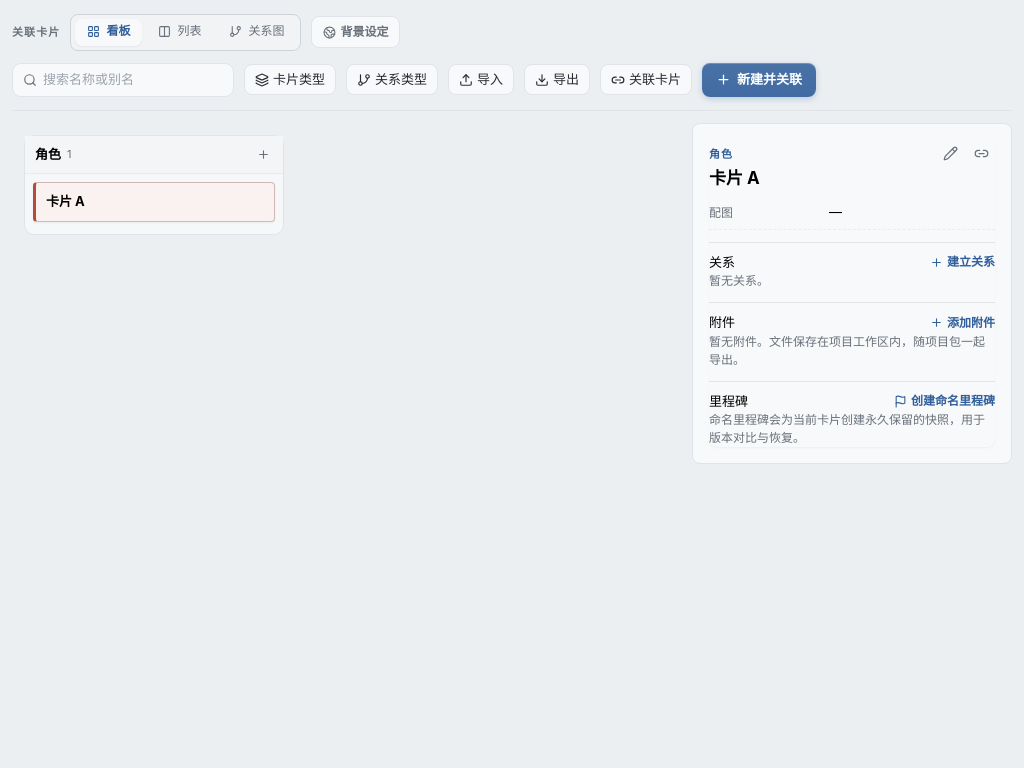
Scenario: 附件字段不写入绝对路径 › attachment 字段不再显示「后续接入」占位，改为资源附件说明
# 进入编辑态，触发 FieldEditor 渲染
Click the button titled "编辑".
click(950, 153)  # box [937,140,964,166]
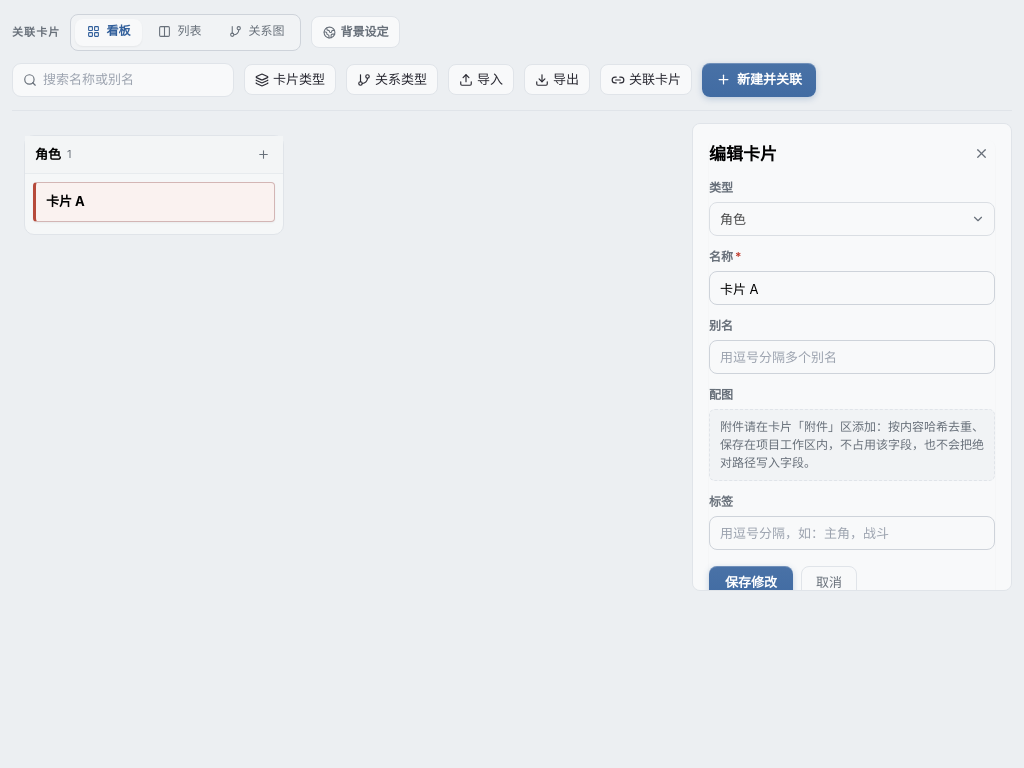
Now the text "附件请在卡片「附件」区添加：按内容哈希去重、保存在项目工作区内，不占用该字段，也不会把绝对路径写入字段。" is shown, box [709,409,995,481]
